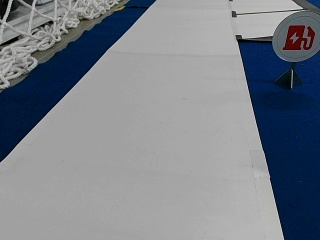battery: (272, 8, 318, 62)
